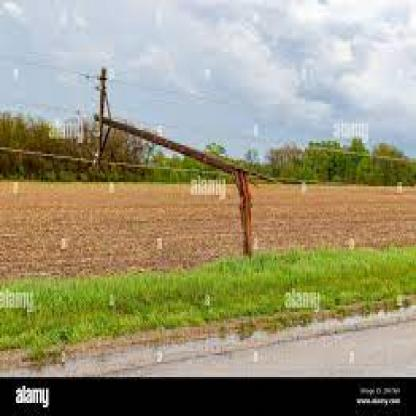Electrical Pole: (86, 63, 278, 209)
